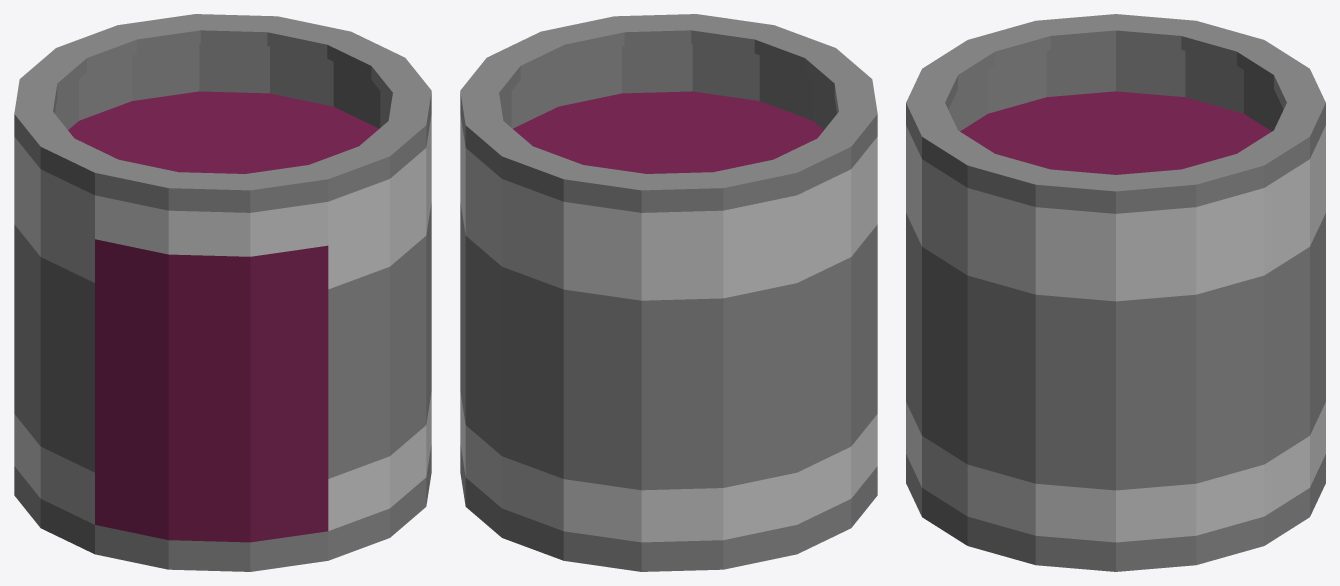
Rendered from paintCan.fbx.
The picture shows the model from 3 angles, left to right: view 1: azimuth 30°, elevation 25°; view 2: azimuth 150°, elevation 25°; view 3: azimuth 270°, elevation 25°; orthographic projection.
Parts seen in each view (by area): view 1: Paint Can; view 2: Paint Can; view 3: Paint Can.
Part boxes in pixels (box(x1,y1,x2,y2)): Paint Can: box(14, 14, 431, 571); Paint Can: box(460, 14, 877, 571); Paint Can: box(906, 14, 1325, 571).
Bounding box in the file's own units: 22.98 × 22.98 × 22.98.
